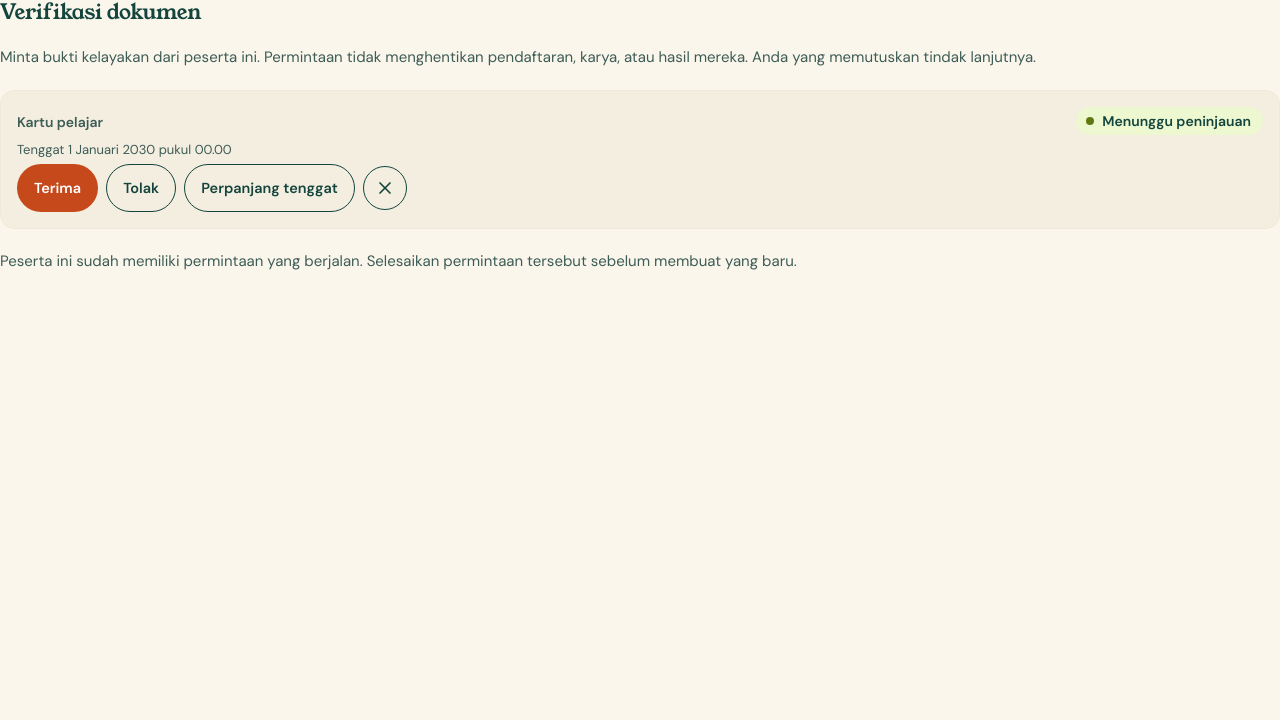
the reject pop-up of a document request › shows the deadline error and sends nothing when a reopening rejection has no deadline
Click the button "Tolak" at (141, 188), box left=106, top=164, right=176, bottom=212
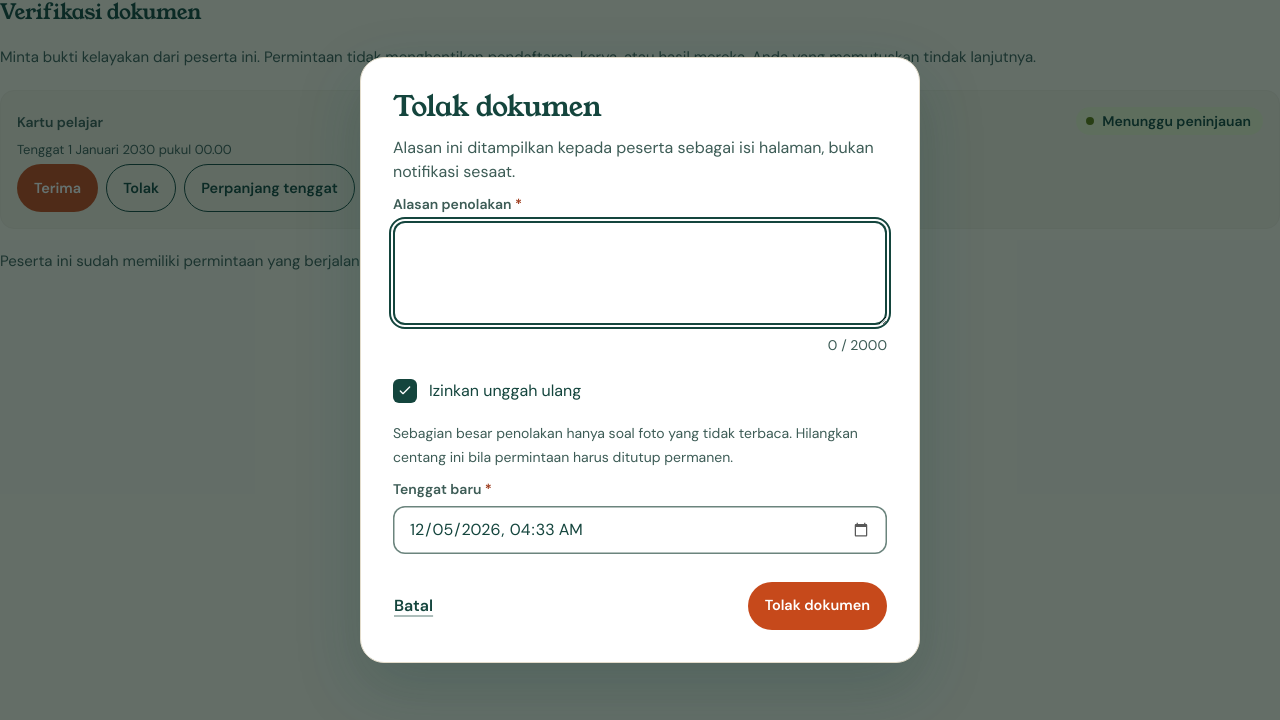
Type "Foto buram" into the text box labelled "Alasan penolakan *" at (640, 273), box left=393, top=221, right=887, bottom=325
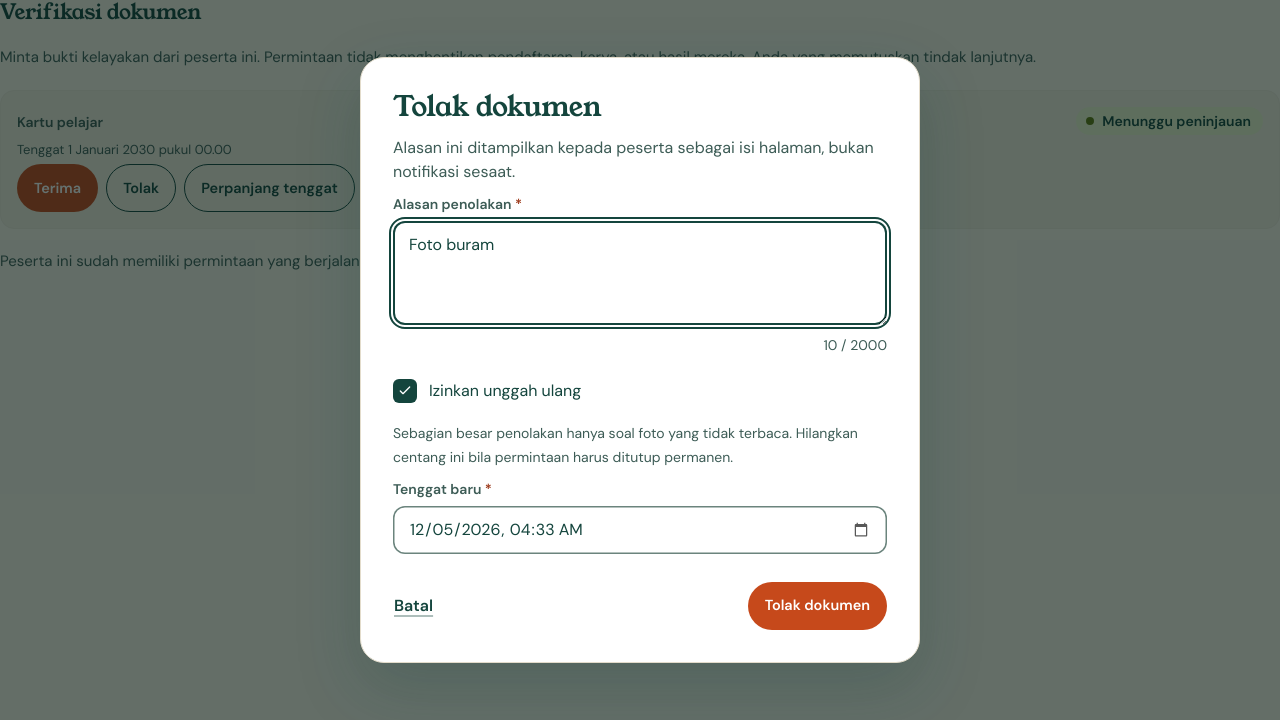
Clear the field labelled "Tenggat baru *" at (640, 530), box left=393, top=506, right=887, bottom=554
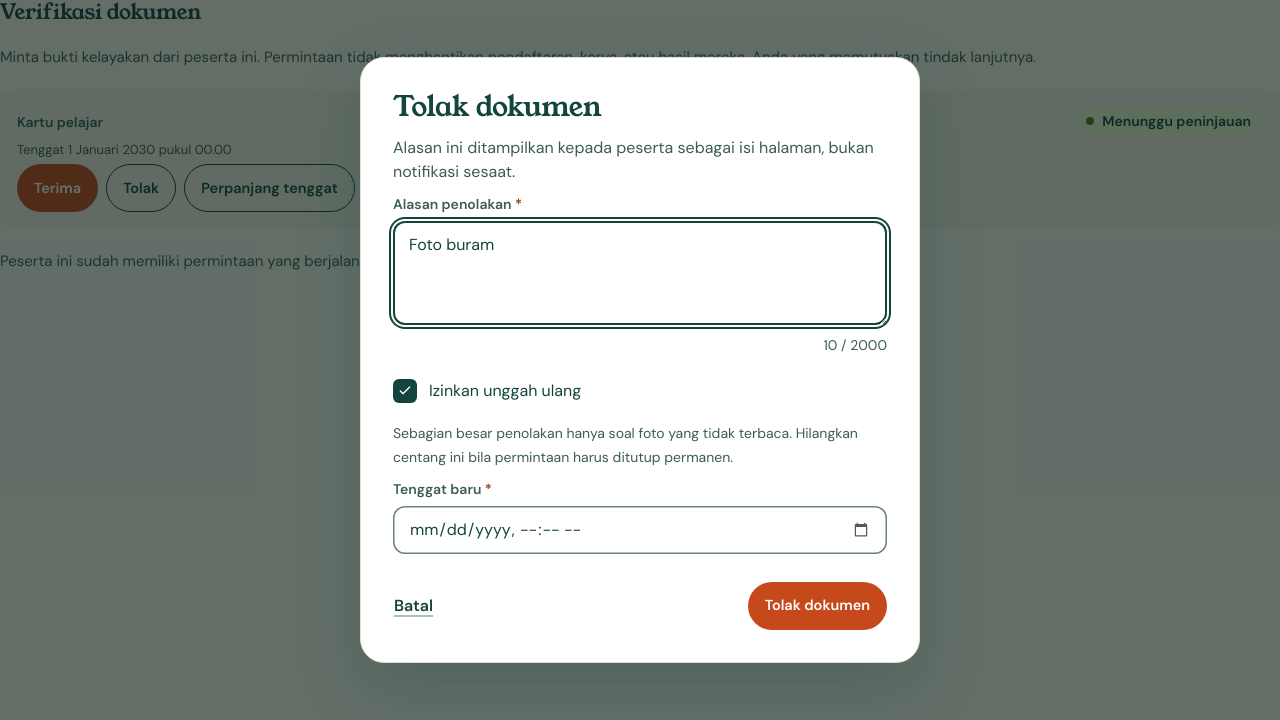
Click the button "Tolak dokumen" at (817, 606), box left=748, top=582, right=887, bottom=630
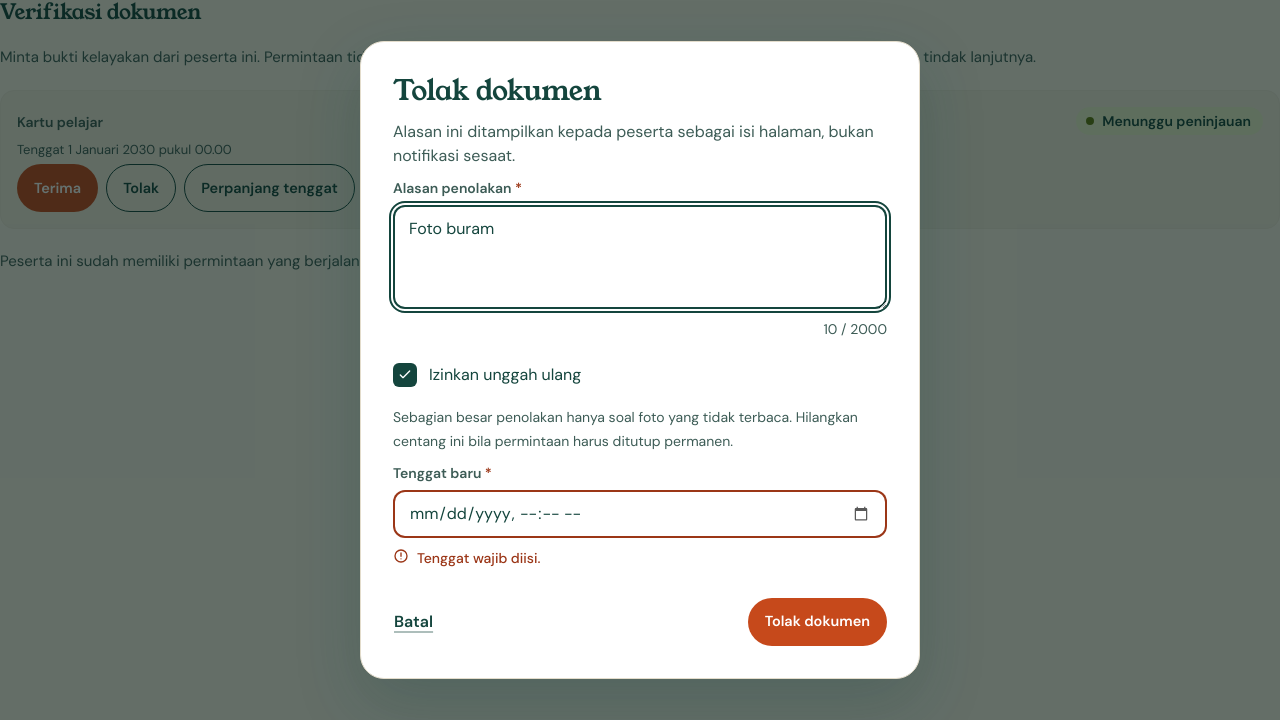
Check: the text "Tenggat wajib diisi." is shown, box left=417, top=546, right=540, bottom=570
